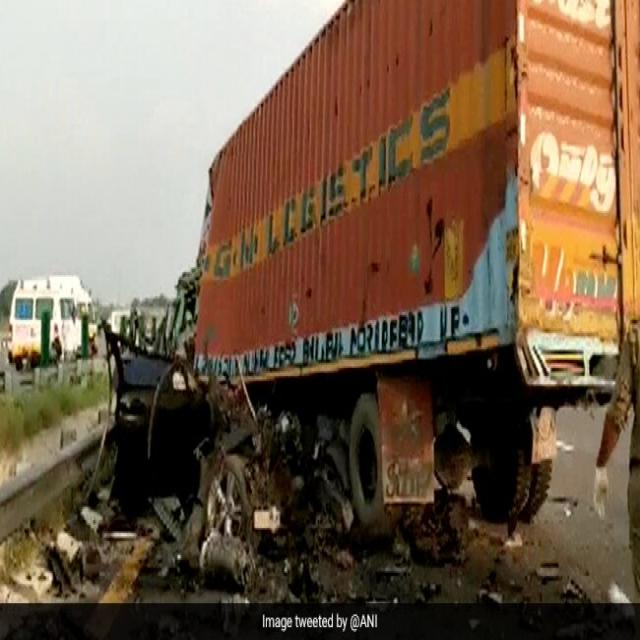accident: (172, 2, 640, 533), (66, 334, 389, 602)
